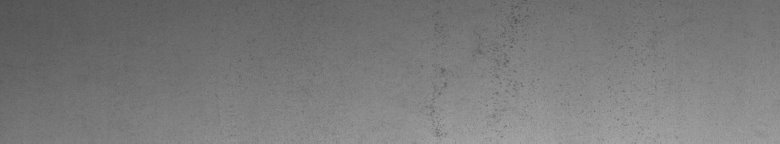ib: (430, 12, 524, 132)
